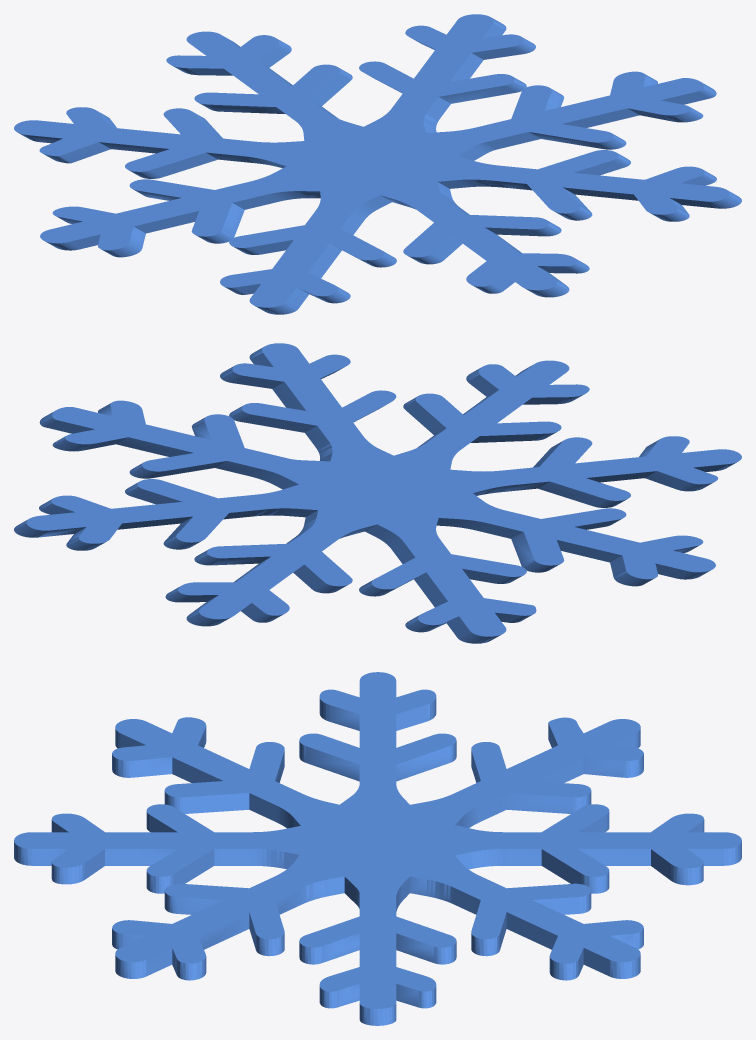
The model's file is item_speeddown.fbx.
3 renders of one model, top to bottom at view 1: azimuth 30°, elevation 25°; view 2: azimuth 150°, elevation 25°; view 3: azimuth 270°, elevation 25°, orthographic. The views are drawn at different scales.
Visible parts, largest first — view 1: Mesh1; view 2: Mesh1; view 3: Mesh1.
Part boxes in pixels (x1,y1,x2,y2): Mesh1: (14,14,741,314); Mesh1: (14,343,741,643); Mesh1: (14,672,741,1025).
Size of the model in its own units: 19.41 by 0.3631 by 17.56.
